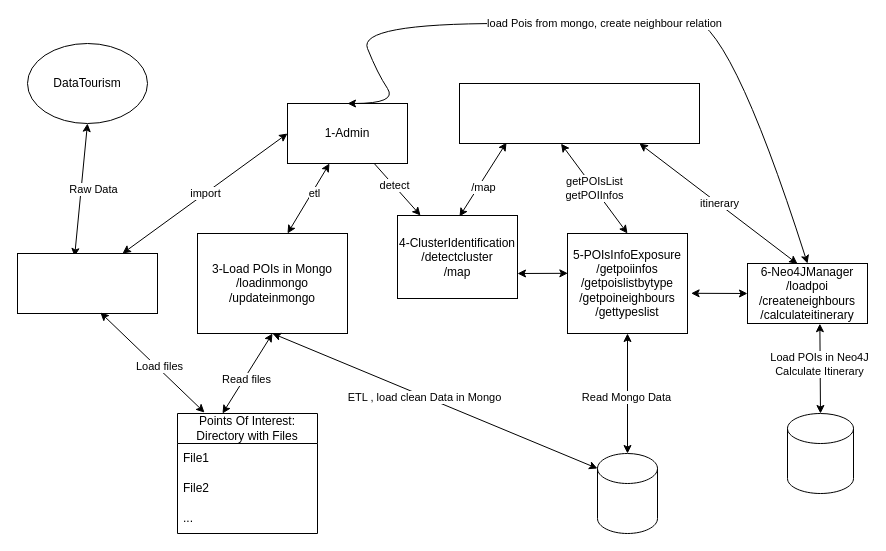
This 886x551 diagram has some shape labels left out. The centre of each missing label's shape, as x and y in pixels:
"2-WebCrawl /importdatatourismepois" goes at pixel 87 283.
"7-Front End" goes at pixel 579 113.
"MongoDB" goes at pixel 627 493.
"Neo4J" goes at pixel 820 453.
